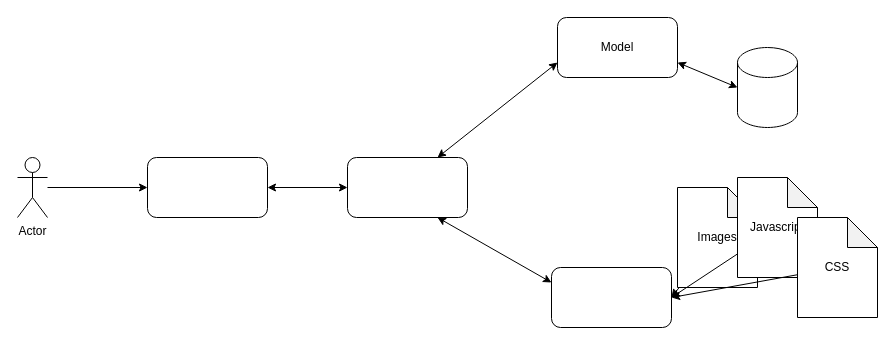
Some shapes in this 895 by 345 pixel diagram are drawn without their labels. Each missing label, with the centre of its shape:
Template: (611,297)
URL: (207,187)
View: (407,187)
